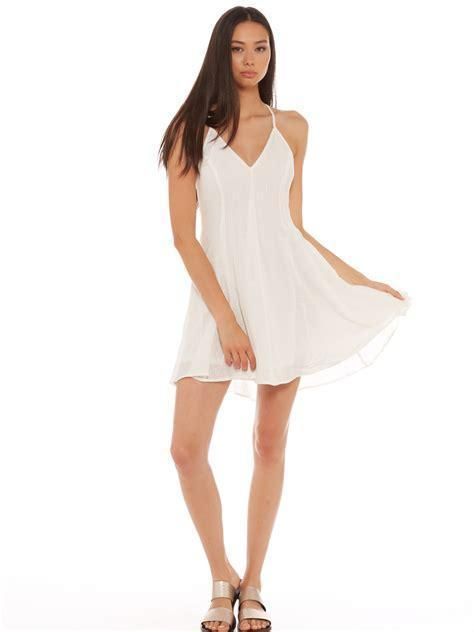dress: (170, 105, 409, 388)
